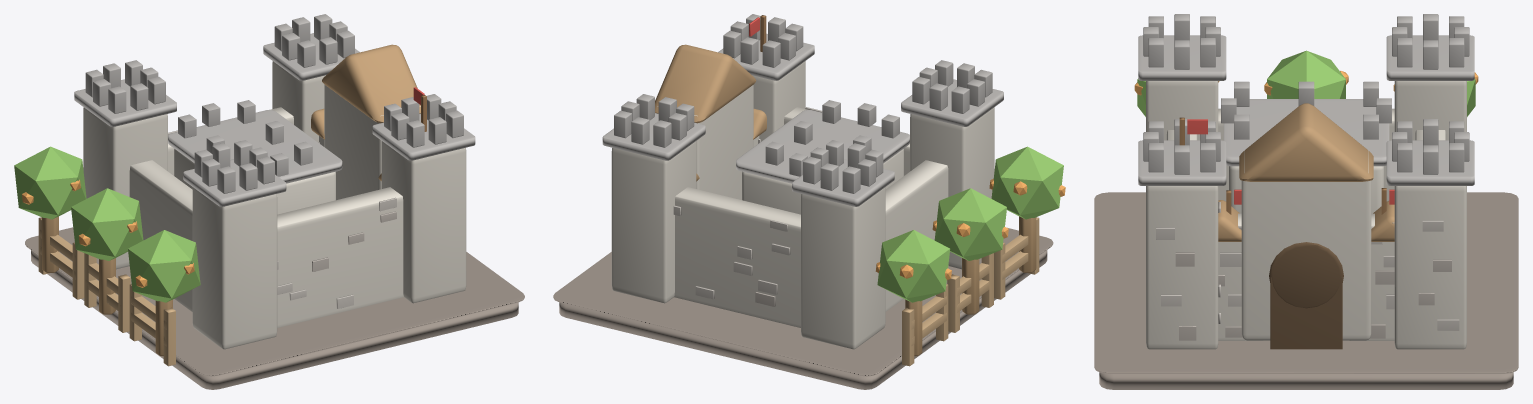
Rendered from burg_level_1.glb.
The picture shows the model from 3 angles, left to right: view 1: azimuth 30°, elevation 25°; view 2: azimuth 150°, elevation 25°; view 3: azimuth 270°, elevation 25°; orthographic projection. The views are drawn at different scales.
Visible parts, largest first — view 1: WallLeft, PlatformEdge, Tower_BL, Tower_FL, Platform, Tower_BR, Gatehouse, InnerKeepTop, GateRoof, WallBack, Tree_L_leaves, Tree_C_leaves (+27 smaller); view 2: WallRight, PlatformEdge, Tower_BR, Tower_FR, Platform, Tower_BL, GateRoof, Gatehouse, InnerKeepTop, WallBack, Tree_R_leaves, Tree_C_leaves (+26 smaller); view 3: PlatformEdge, Gatehouse, Tower_FR, Tower_FL, GateRoof, Platform, InnerKeepTop, GateArchTop, GateRecess, Tower_BR, Tower_BL, Tree_C_leaves (+32 smaller).
Boxes of the visible parts, x1,y1,x2,y2 form: WallLeft: (277, 187, 403, 327); PlatformEdge: (25, 227, 524, 376); Tower_BL: (192, 187, 277, 349); Tower_FL: (381, 141, 466, 303); Platform: (31, 250, 518, 389); Tower_BR: (83, 107, 167, 269); Gatehouse: (324, 84, 420, 200); InnerKeepTop: (168, 109, 342, 183); GateRoof: (322, 44, 420, 123); WallBack: (129, 160, 192, 311); Tree_L_leaves: (128, 230, 200, 302); Tree_C_leaves: (71, 188, 143, 260); WallRight: (674, 187, 800, 327); PlatformEdge: (553, 227, 1053, 376); Tower_BR: (801, 187, 885, 349); Tower_FR: (611, 141, 696, 303); Platform: (559, 250, 1047, 389); Tower_BL: (910, 107, 994, 269); GateRoof: (655, 44, 756, 123); Gatehouse: (657, 85, 753, 199); InnerKeepTop: (736, 109, 909, 183); WallBack: (885, 160, 948, 311); Tree_R_leaves: (877, 230, 950, 302); Tree_C_leaves: (934, 188, 1006, 260); PlatformEdge: (1094, 192, 1518, 373); Gatehouse: (1241, 151, 1371, 340); Tower_FR: (1394, 186, 1466, 349); Tower_FL: (1146, 186, 1218, 349); GateRoof: (1239, 103, 1373, 181); Platform: (1099, 372, 1513, 389); InnerKeepTop: (1223, 99, 1389, 166); GateArchTop: (1269, 242, 1343, 308); GateRecess: (1270, 277, 1342, 349); Tower_BR: (1394, 81, 1466, 140); Tower_BL: (1146, 81, 1218, 140); Tree_C_leaves: (1267, 50, 1345, 98).
Bounding box in the file's own units: 1.84 × 1.03 × 1.64.
